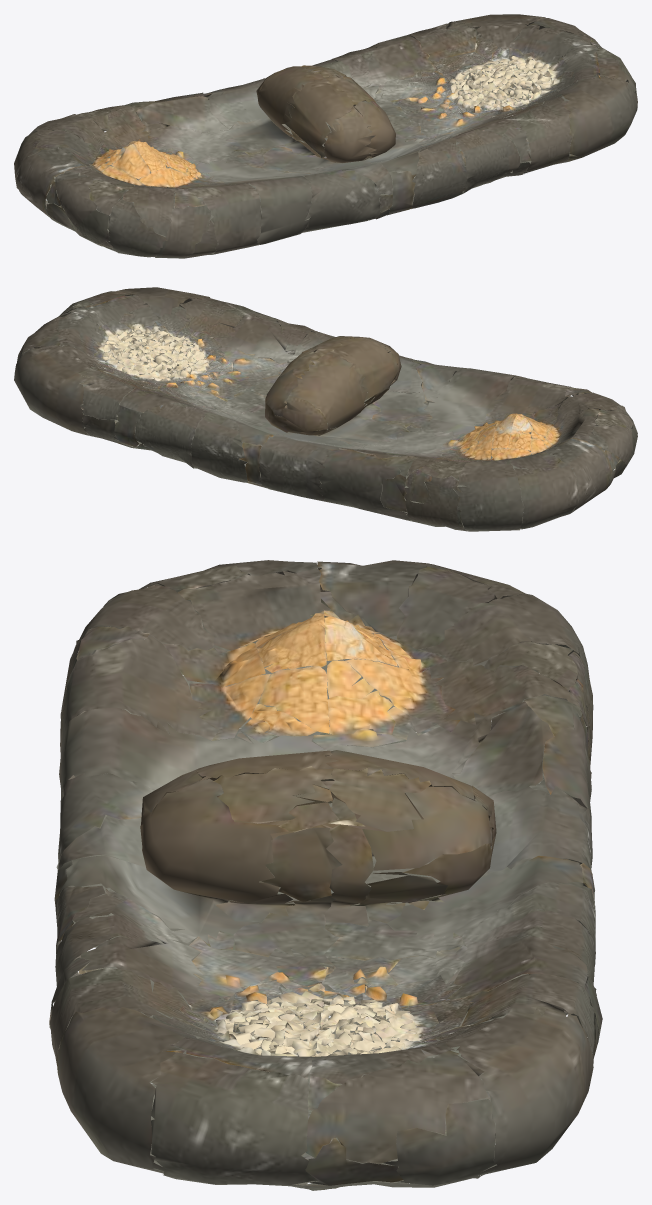
Rendered from quern.glb.
3 views of the same model, one above another, from view 1: azimuth 30°, elevation 25°; view 2: azimuth 150°, elevation 25°; view 3: azimuth 270°, elevation 25° (orthographic). The views are drawn at different scales.
Visible parts, largest first — view 1: Mesh_0; view 2: Mesh_0; view 3: Mesh_0.
Part boxes in pixels (box(x1,y1,x2,y2)): Mesh_0: box(14, 14, 637, 258); Mesh_0: box(14, 287, 637, 531); Mesh_0: box(49, 560, 602, 1190).
Size of the model in its own units: 0.8121 by 0.13 by 0.3436.
1 material, 1 textured.
